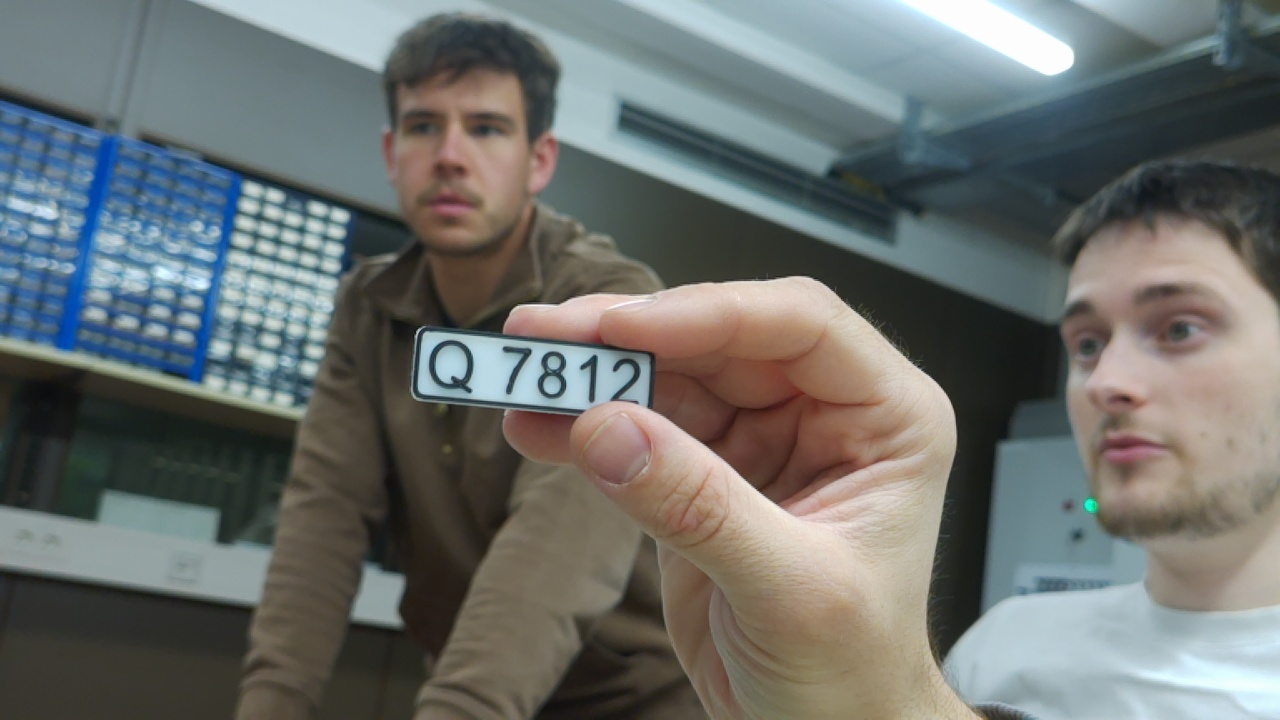license_plate: (394, 308, 660, 417)
